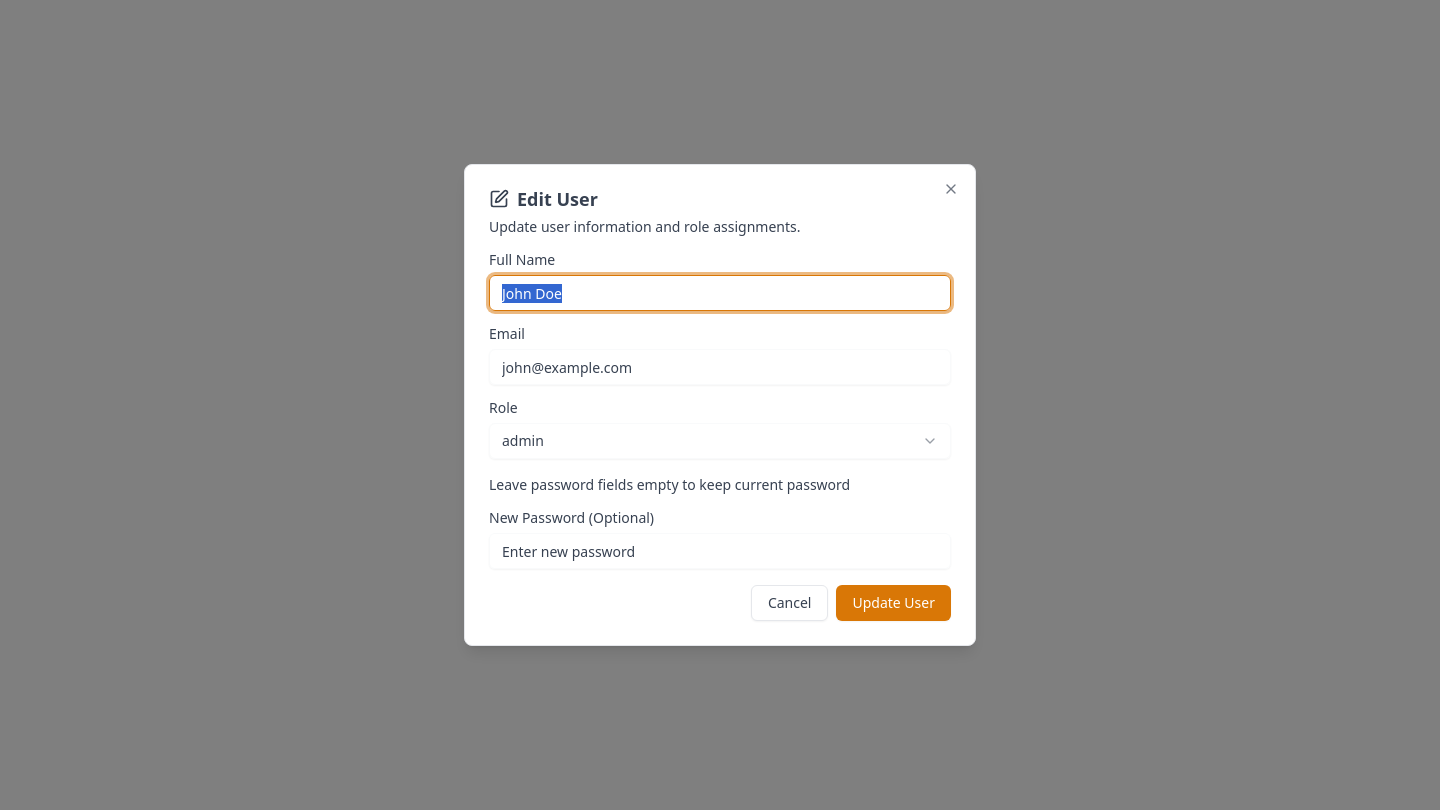
EditUserModal Component › validates name minimum length
The width and height of the screenshot is (1440, 810).
Replace the text in the field showing "John Doe" with "A" at x=720, y=293, box x1=489 y1=275 x2=951 y2=311
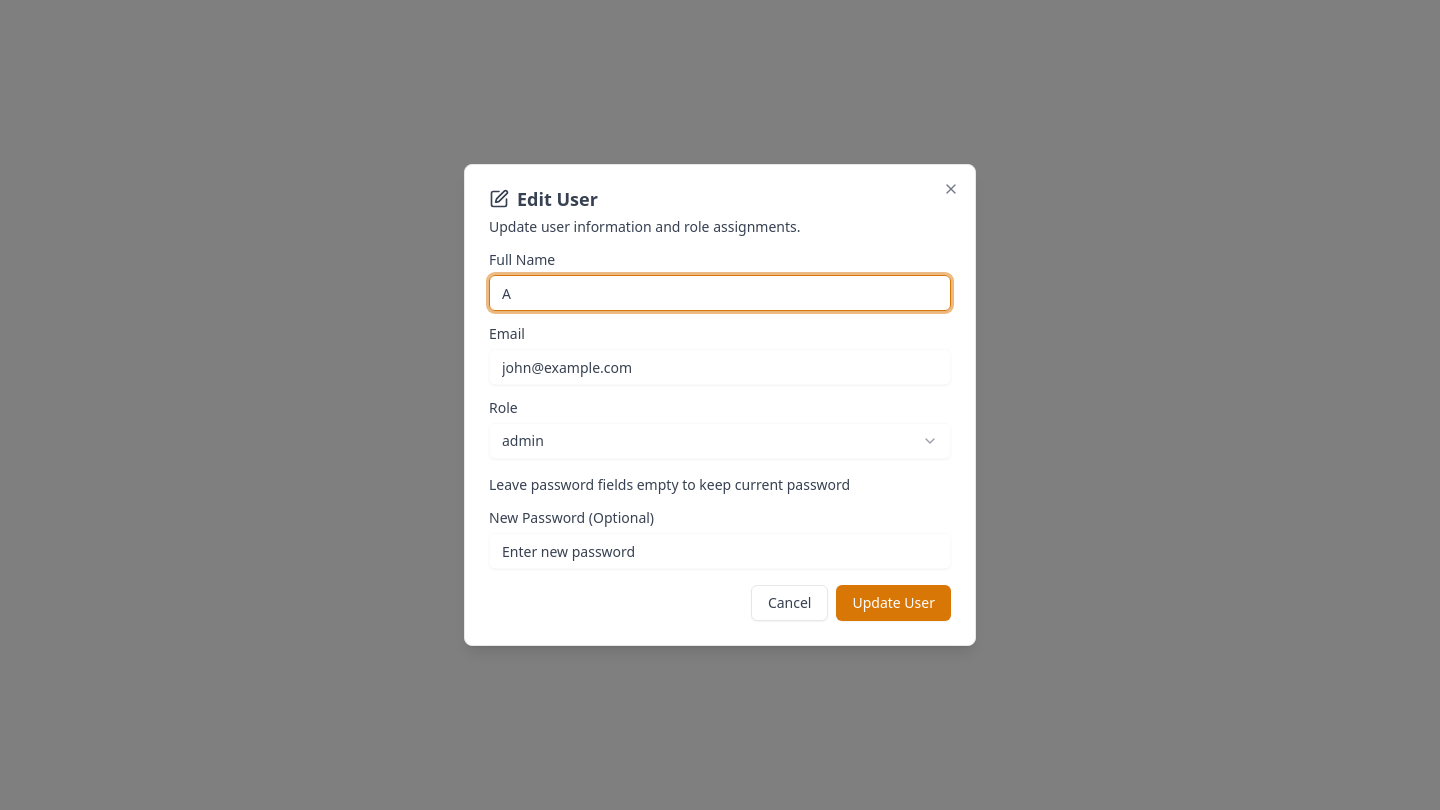
Click the button "Update User" at x=894, y=603, box x1=836 y1=585 x2=951 y2=621
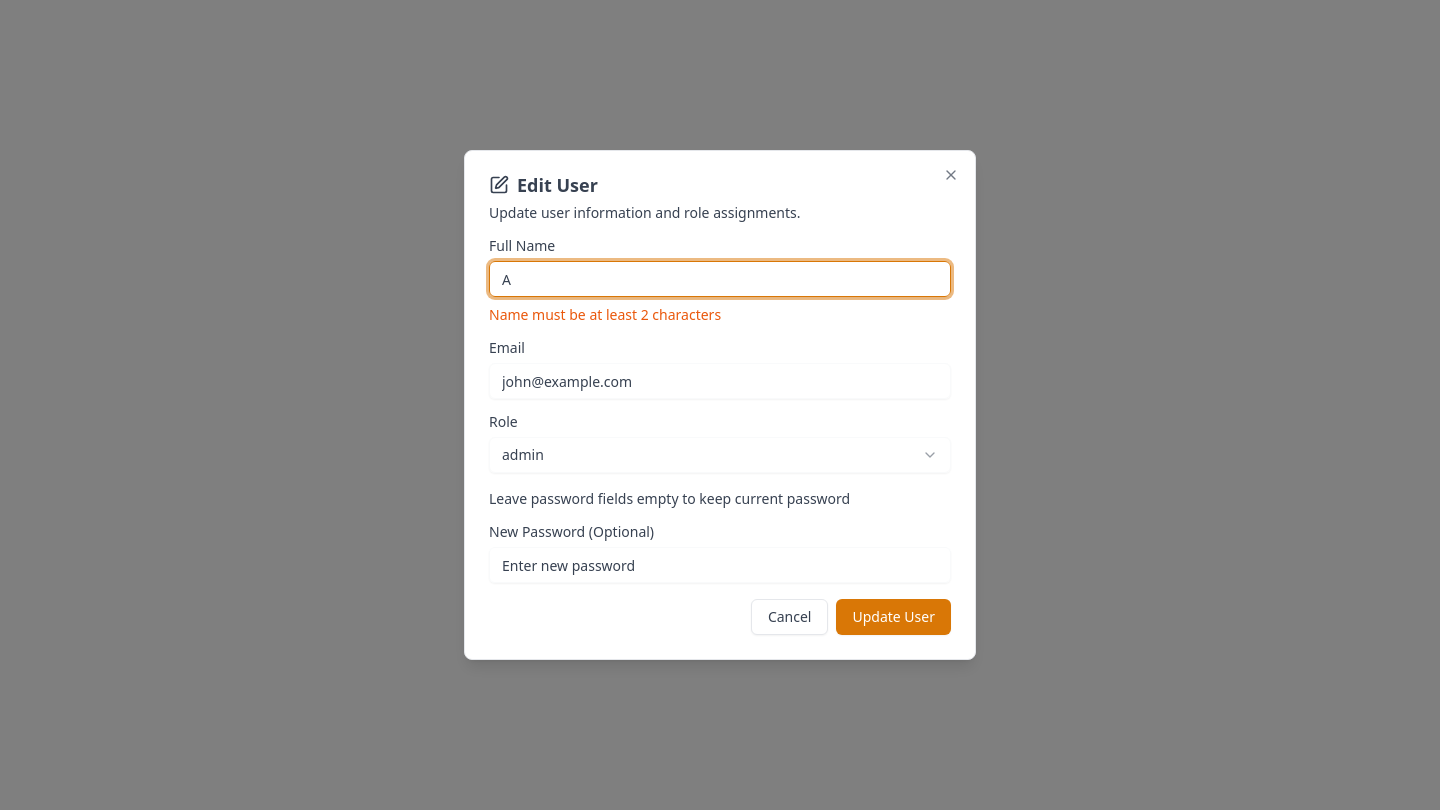
Check: the text "Name must be at least 2 characters" is shown, box x1=489 y1=305 x2=721 y2=324
